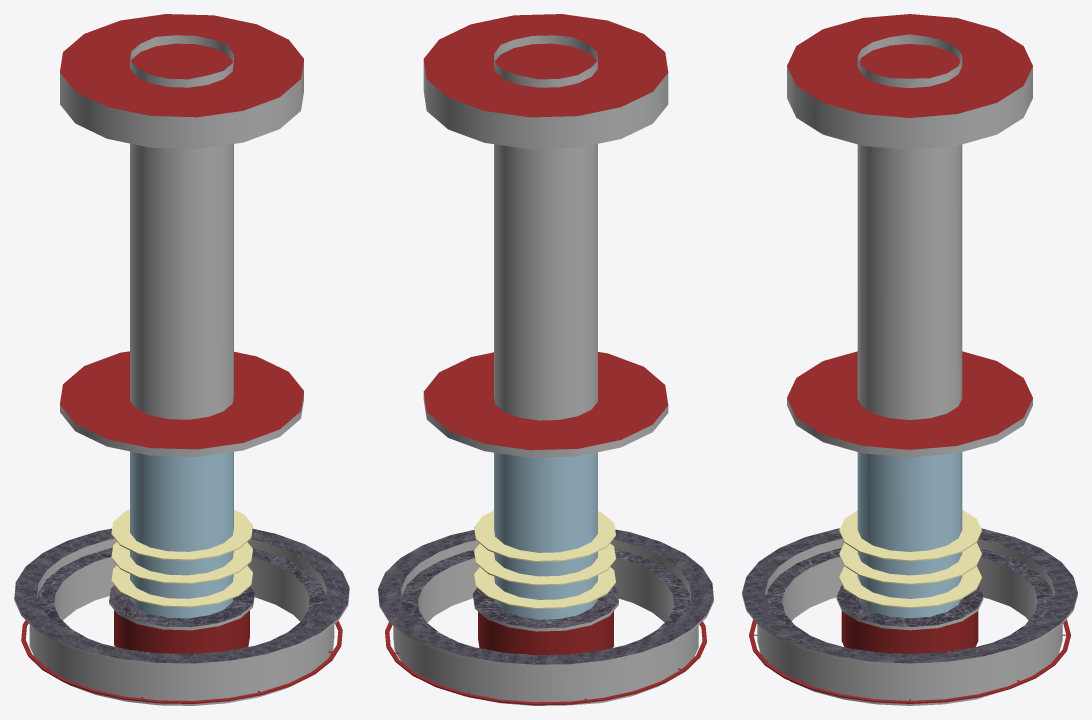
File: Prop_Bar.FBX
3 views of the same model, side by side, from view 1: azimuth 30°, elevation 25°; view 2: azimuth 150°, elevation 25°; view 3: azimuth 270°, elevation 25° (orthographic).
Parts seen in each view (by area): view 1: Prop_Bar; view 2: Prop_Bar; view 3: Prop_Bar.
Part boxes in pixels (bbox=[...]): Prop_Bar: bbox=[14, 14, 349, 705]; Prop_Bar: bbox=[378, 14, 713, 705]; Prop_Bar: bbox=[742, 14, 1077, 705].
Bounding box in the file's own units: 6.6 × 12.69 × 6.6.
